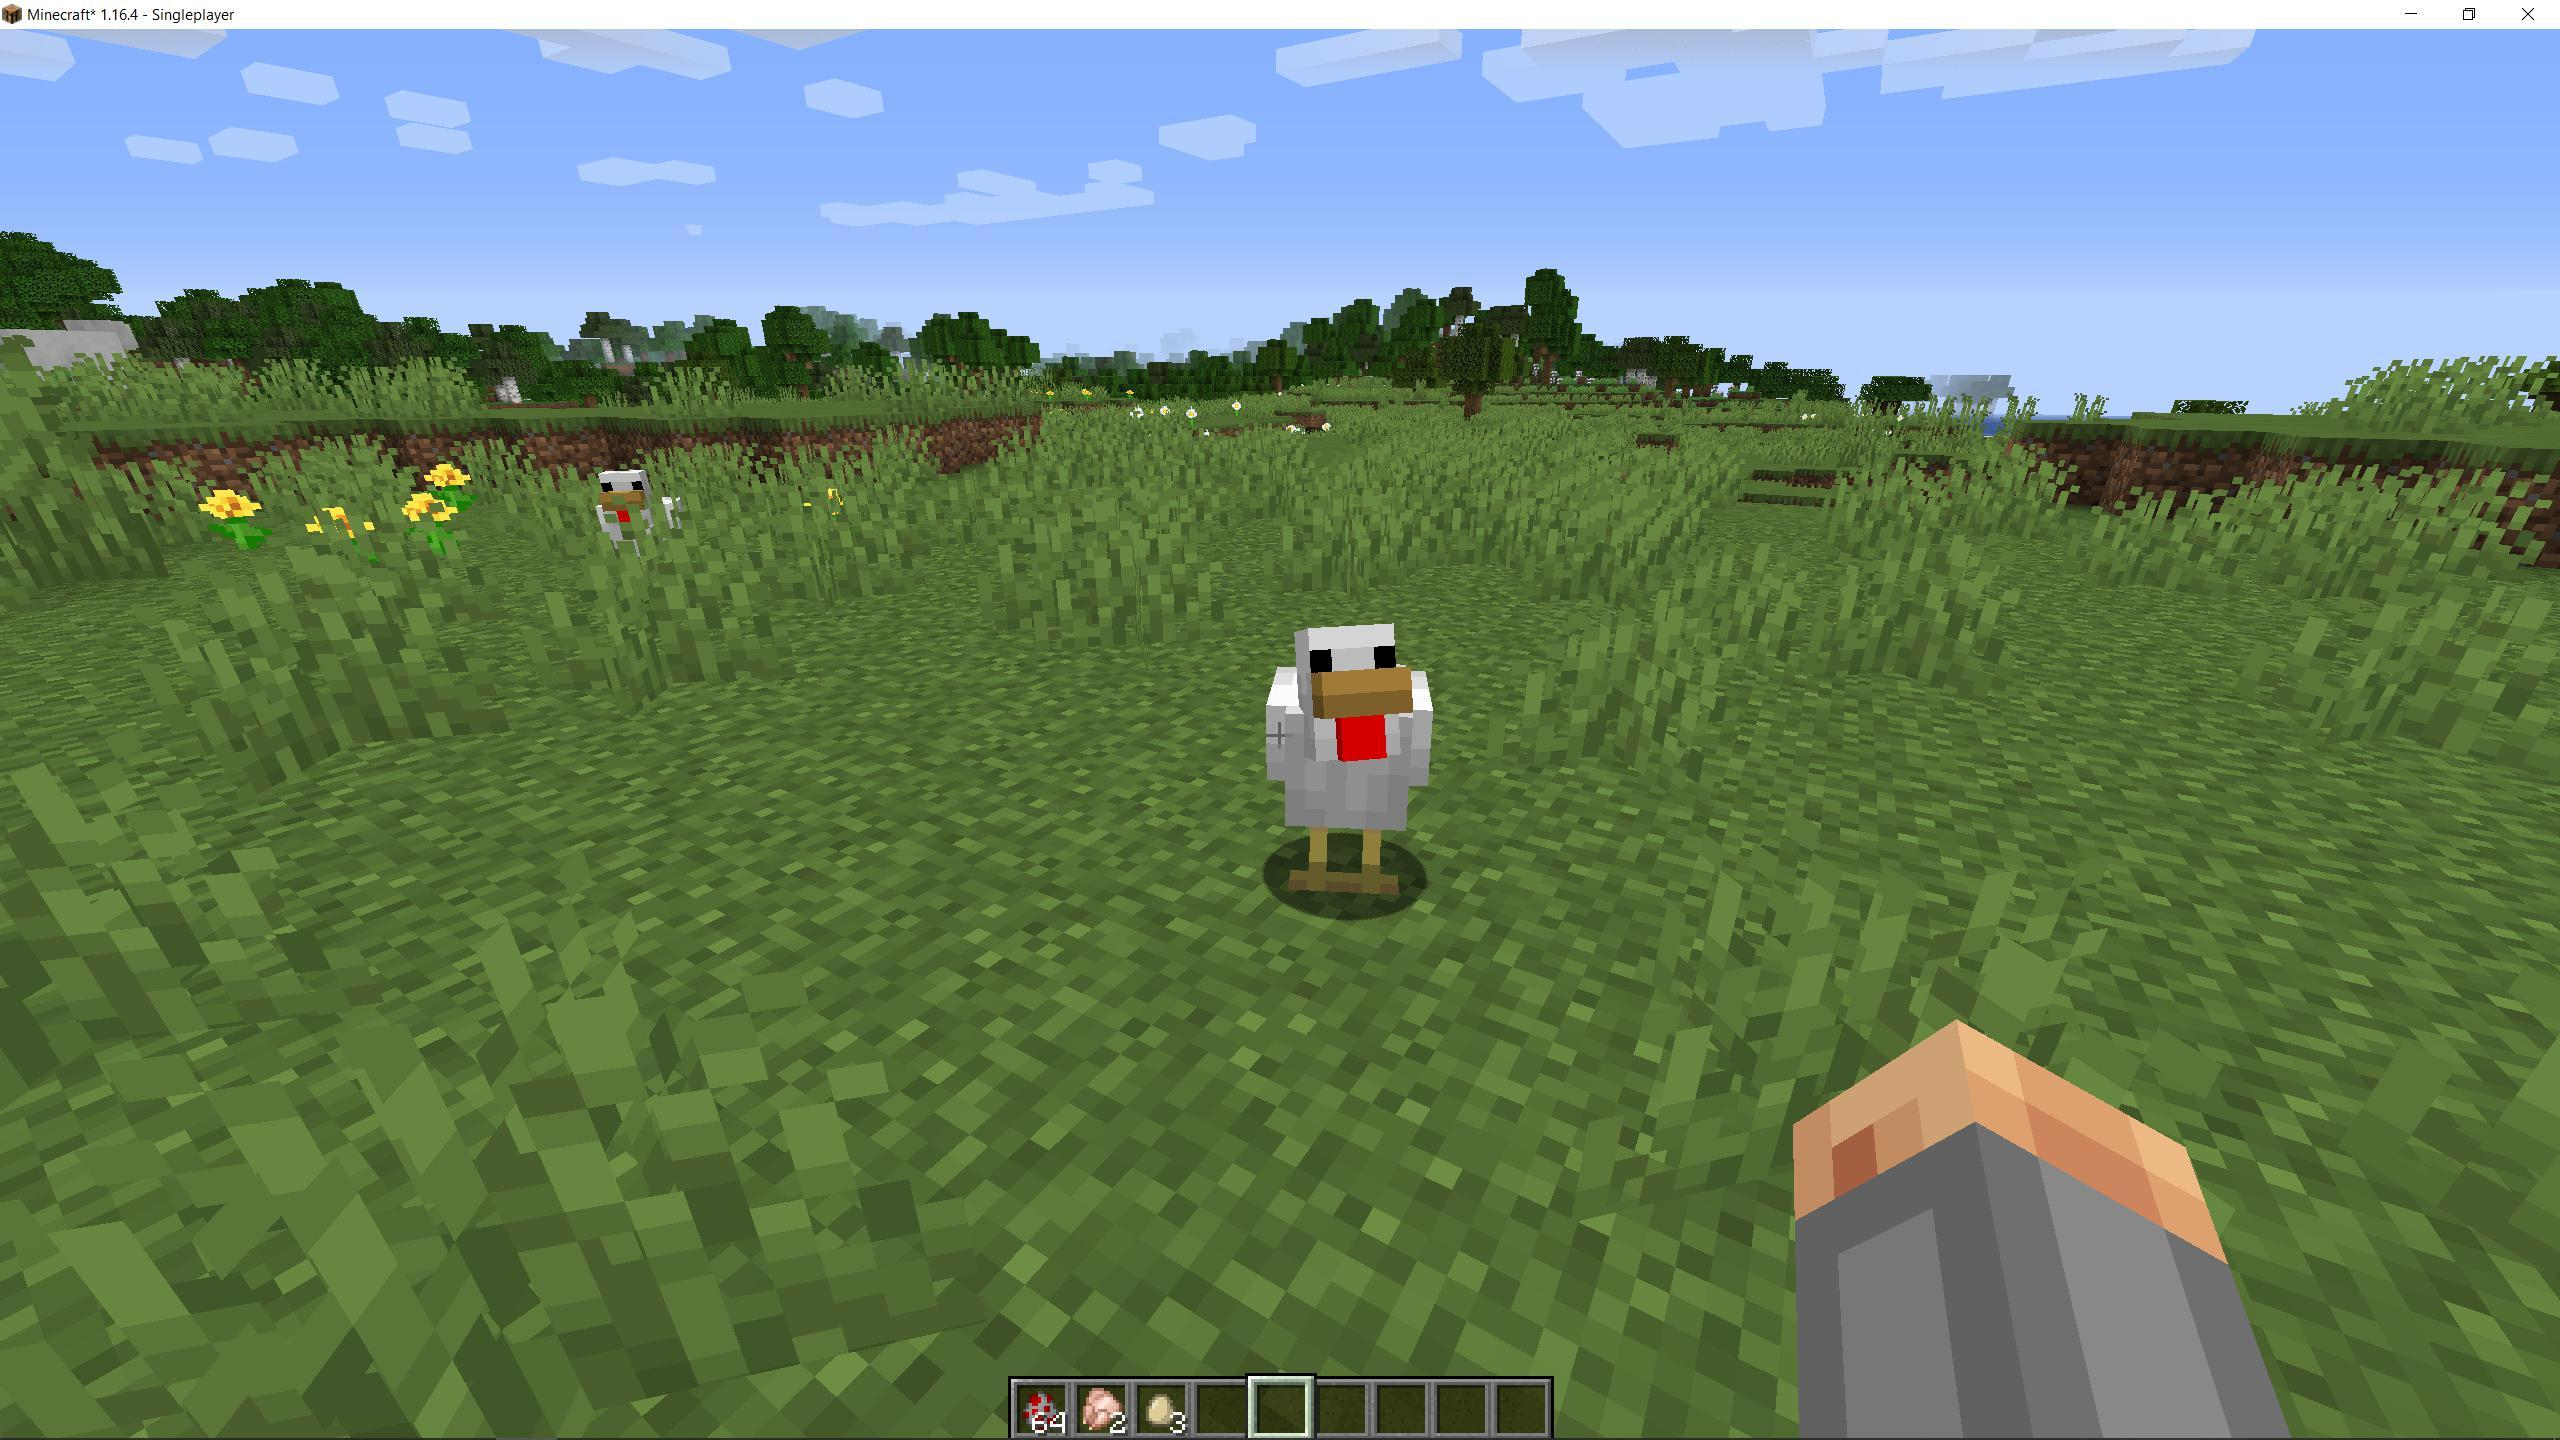chicken: (1236, 605, 1452, 932), (584, 457, 700, 587)
